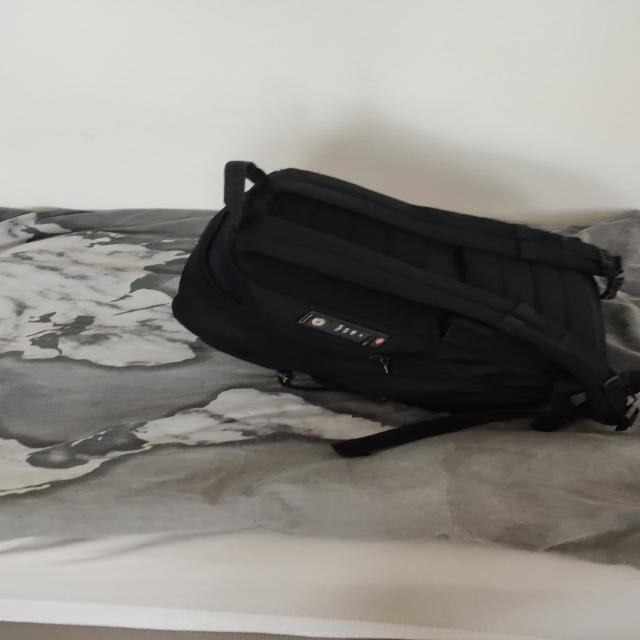backpack: (150, 151, 640, 444)
